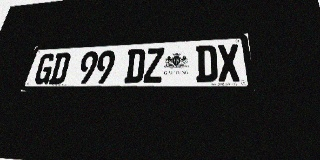9: (76, 51, 99, 84), (94, 50, 116, 84)
D: (196, 45, 218, 82), (124, 48, 146, 83), (48, 52, 71, 84)
G: (33, 53, 56, 84)
X: (217, 44, 241, 82)
Z: (143, 48, 165, 83)
